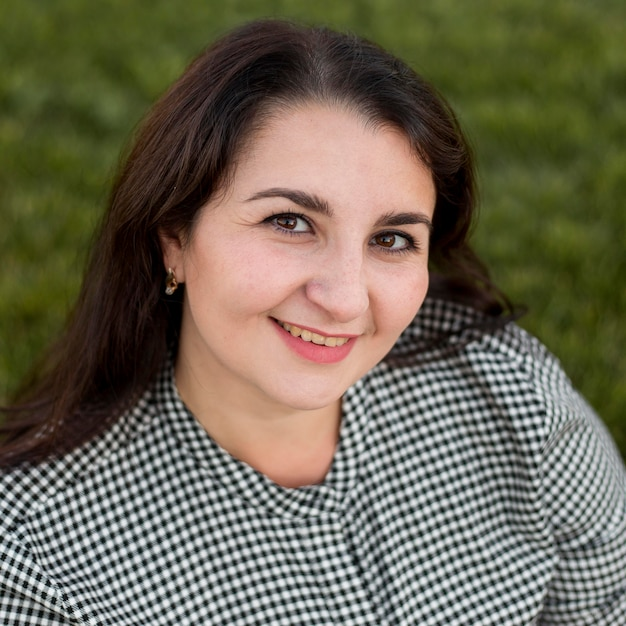young: (116, 27, 470, 399)
